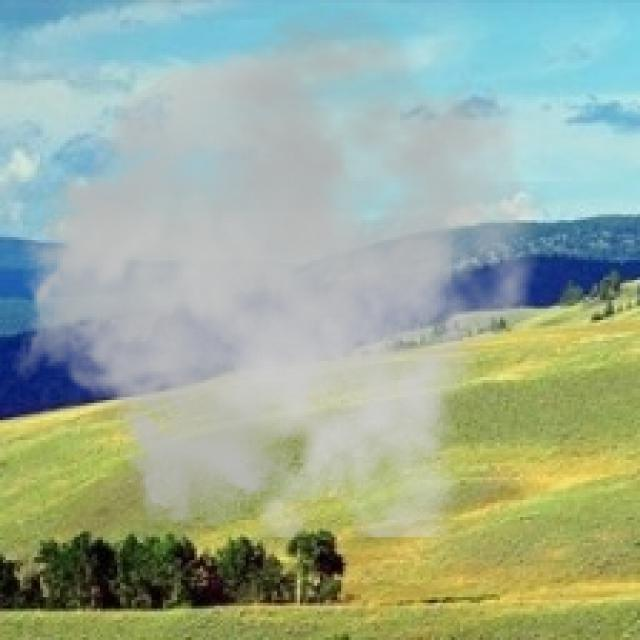Smoke: (8, 5, 554, 538)
